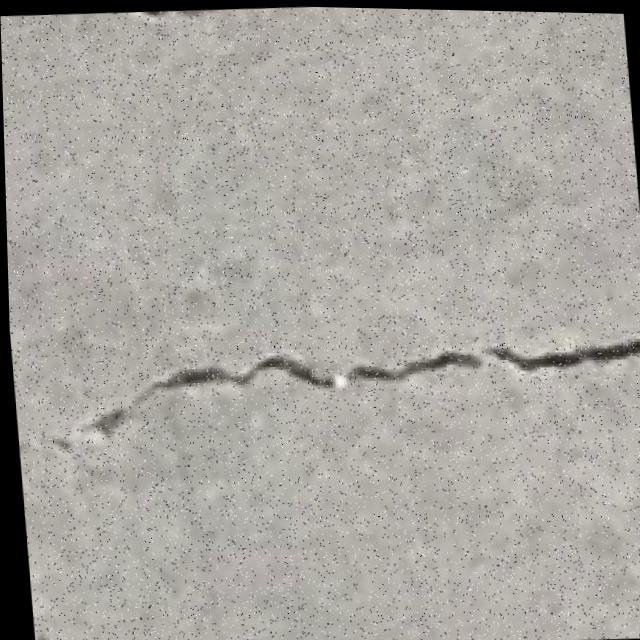Crack: (29, 301, 640, 480)
